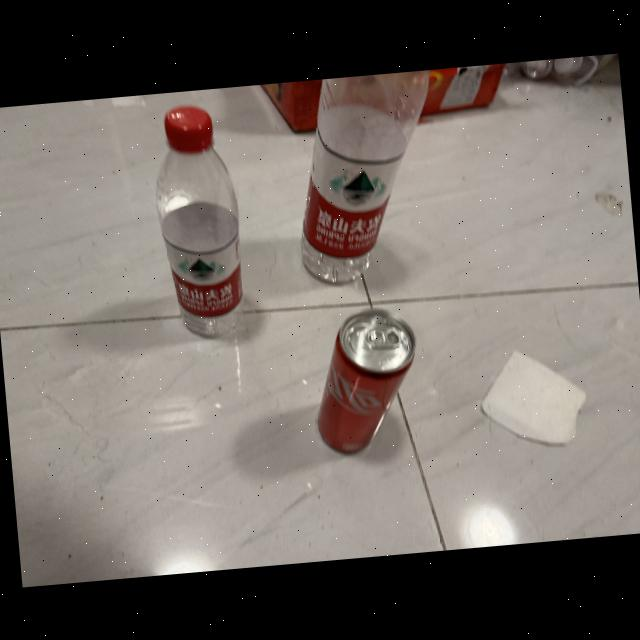Cola: (297, 301, 438, 459)
